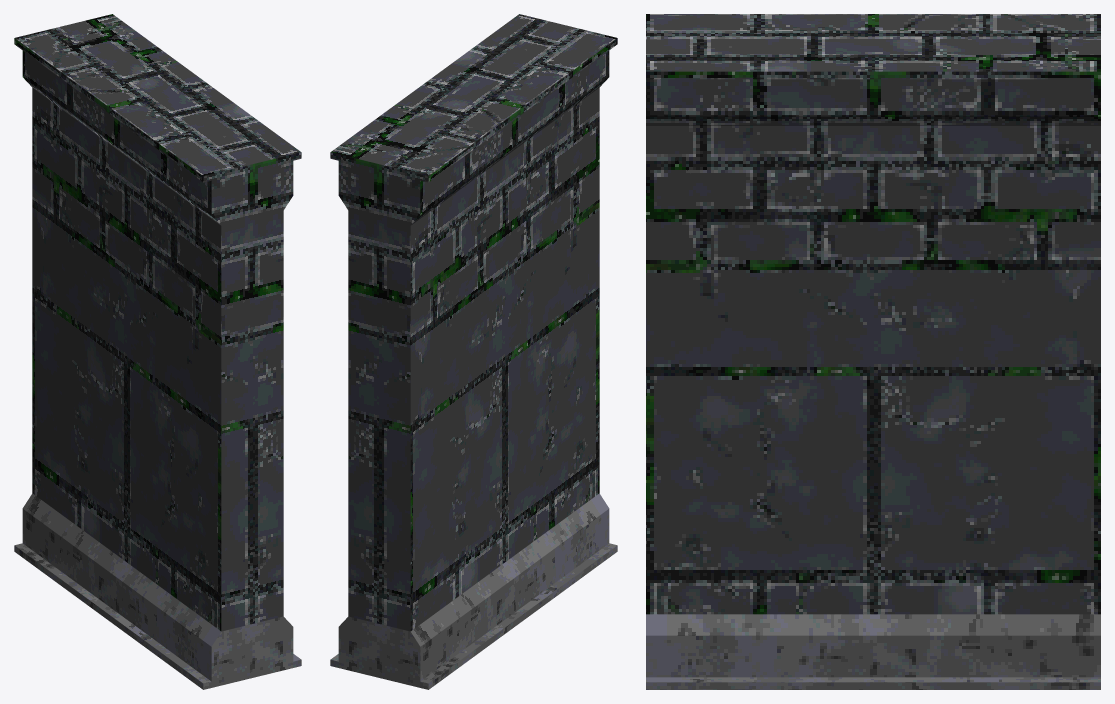
Rendered from wall_2x3_02.gltf.
The picture shows the model from 3 angles, left to right: view 1: azimuth 30°, elevation 25°; view 2: azimuth 150°, elevation 25°; view 3: azimuth 270°, elevation 25°; orthographic projection. The views are drawn at different scales.
Parts seen in each view (by area): view 1: wall_2x3_02; view 2: wall_2x3_02; view 3: wall_2x3_02.
Part boxes in pixels (x1,y1,x2,y2): wall_2x3_02: (14,14,301,689); wall_2x3_02: (330,14,617,689); wall_2x3_02: (646,14,1100,689).
Bounding box in the file's own units: 0.6 × 3 × 2.
1 material, 1 textured.
